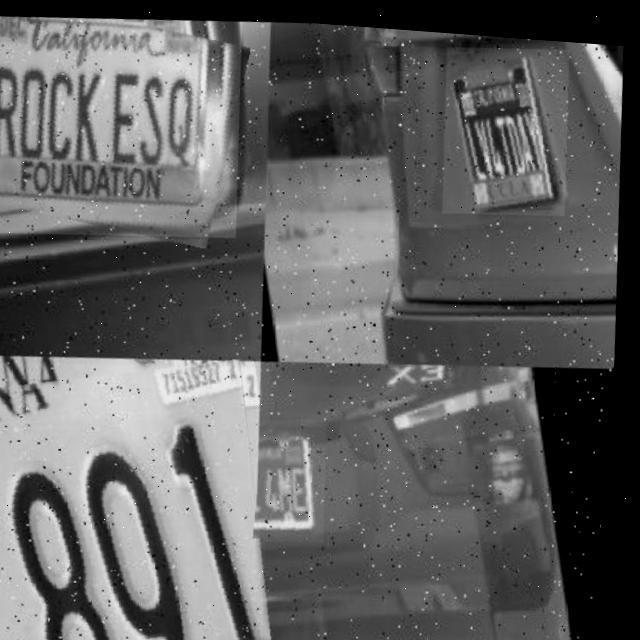LicensePlate: (0, 346, 292, 640), (0, 4, 253, 248), (436, 34, 579, 213), (257, 411, 340, 541)
